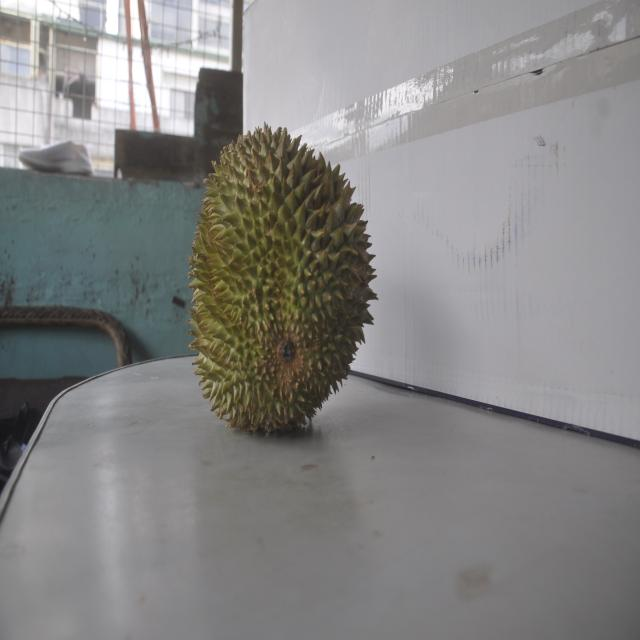mature: (187, 122, 370, 435)
